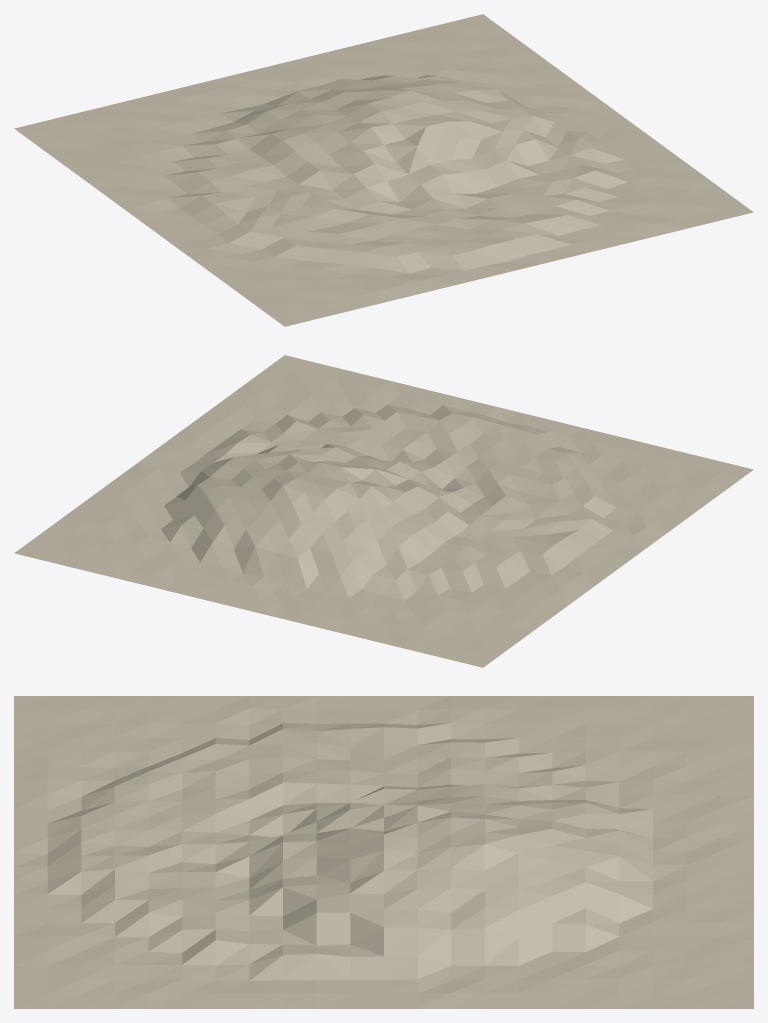
File: Ground_s_09.fbx
The picture shows the model from 3 angles, top to bottom: view 1: azimuth 30°, elevation 25°; view 2: azimuth 150°, elevation 25°; view 3: azimuth 270°, elevation 25°; orthographic projection. The views are drawn at different scales.
Visible parts, largest first — view 1: Ground_s_09; view 2: Ground_s_09; view 3: Ground_s_09.
Boxes of the visible parts, left/top/right/bottom form: Ground_s_09: left=14, top=14, right=753, bottom=326; Ground_s_09: left=14, top=355, right=753, bottom=667; Ground_s_09: left=14, top=696, right=753, bottom=1008.
Size of the model in its own units: 5000 by 393 by 5000.
